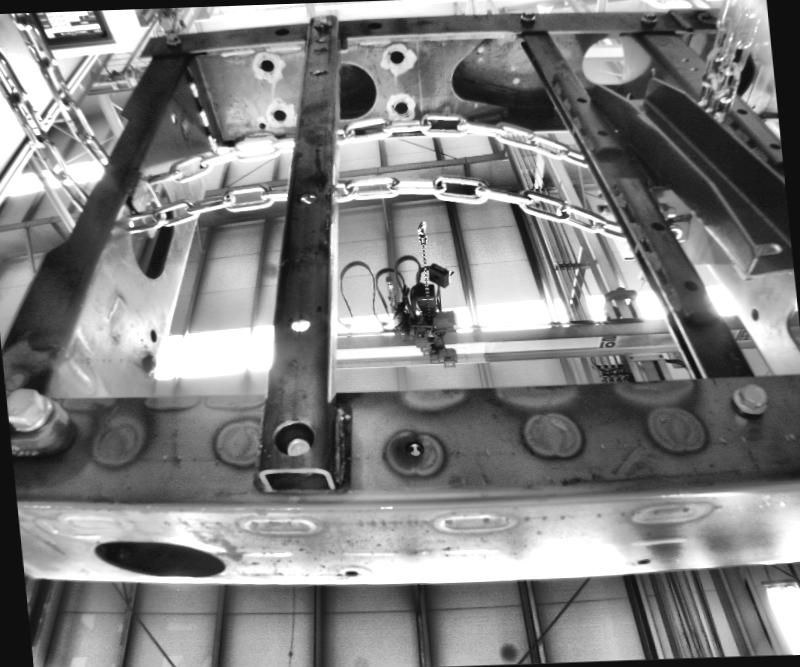bolt: (5, 380, 53, 439), (729, 381, 774, 413), (136, 350, 158, 375), (638, 6, 658, 24), (160, 31, 181, 47), (515, 8, 539, 21), (310, 13, 330, 26)
bracket: (124, 162, 173, 243)
hole: (81, 529, 238, 583), (572, 29, 630, 85), (274, 415, 314, 455), (284, 311, 311, 335), (400, 436, 426, 458), (296, 189, 318, 205), (256, 57, 275, 73), (390, 99, 408, 115), (648, 216, 665, 232), (270, 106, 287, 122), (308, 64, 328, 76), (683, 277, 698, 291), (747, 306, 762, 320), (272, 25, 292, 35), (389, 50, 404, 62), (636, 554, 650, 566), (764, 139, 779, 150), (344, 566, 359, 576), (364, 20, 380, 28), (575, 94, 587, 104), (508, 75, 520, 84), (149, 328, 157, 340), (596, 127, 607, 135), (314, 35, 325, 43), (508, 60, 516, 70), (735, 107, 746, 114), (678, 54, 690, 60), (258, 120, 265, 127), (686, 66, 698, 70)
welding: (186, 79, 201, 97), (196, 107, 208, 125), (205, 133, 217, 151)
